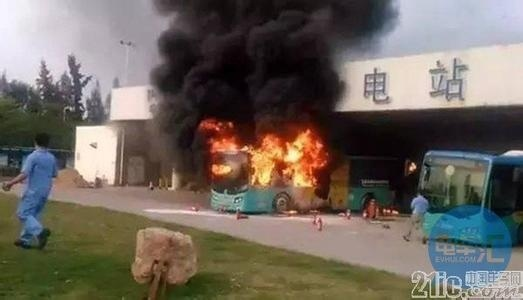fire: (201, 117, 329, 189)
